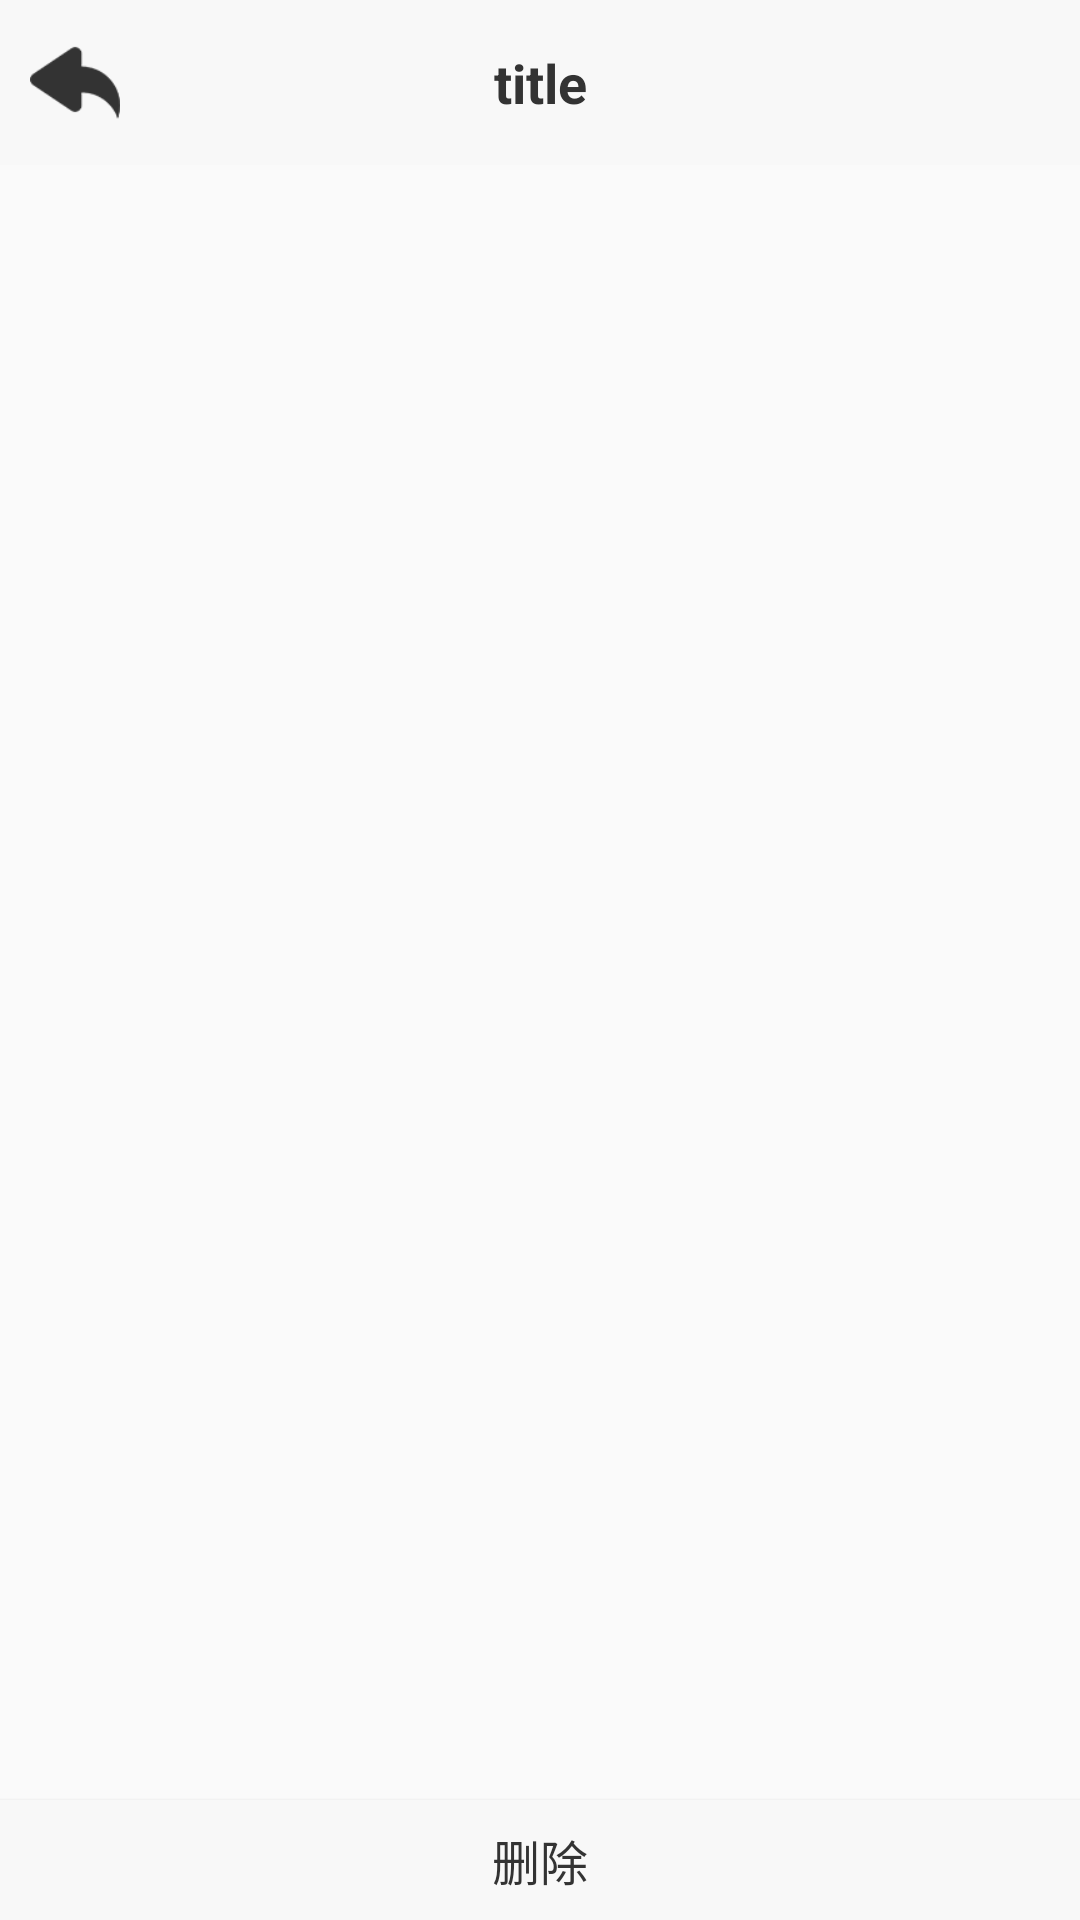

Point at icon controls on the screen. Image size 1080×1920, points as [x,y].
return: [75,82]
